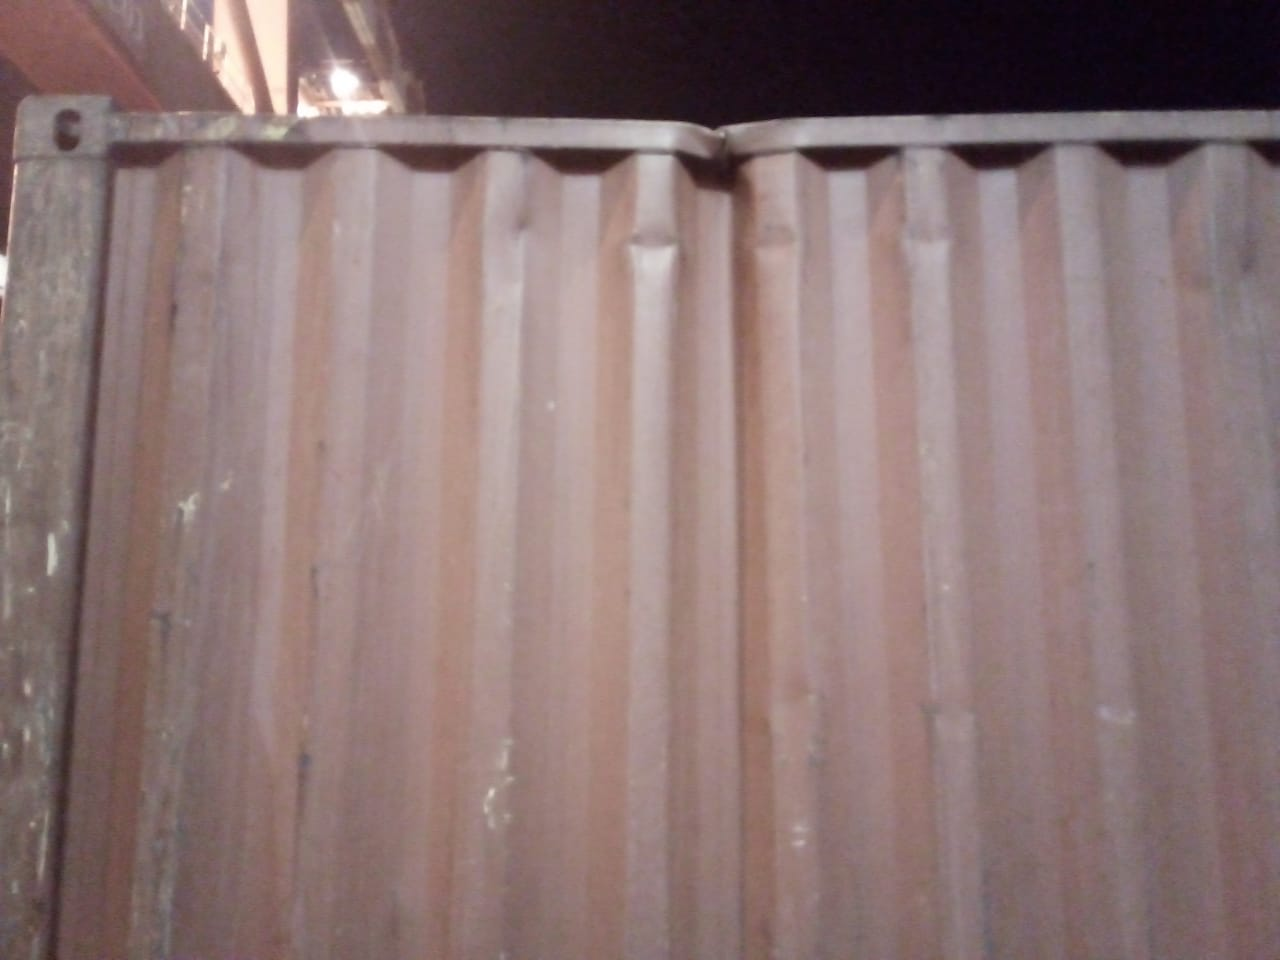moderate: (435, 116, 1006, 268)
